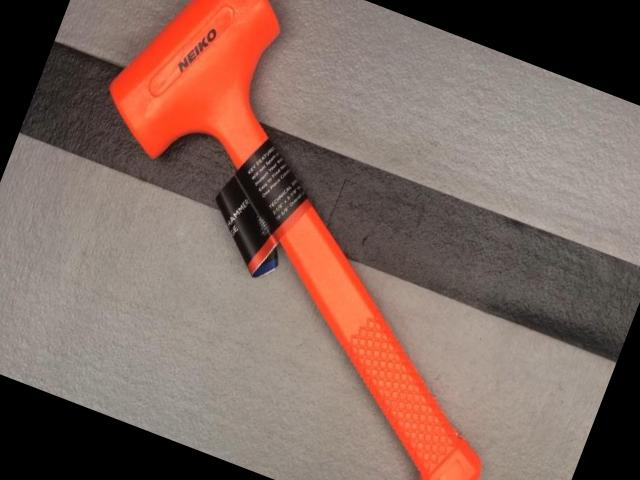hammer: (11, 0, 623, 480)
